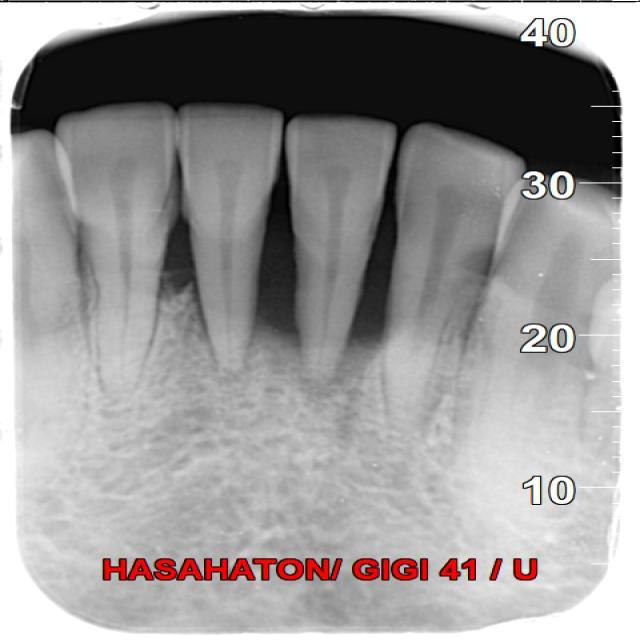individual-tooth-8tto: (382, 128, 524, 425), (59, 103, 179, 391), (282, 119, 401, 383), (182, 105, 290, 373)
